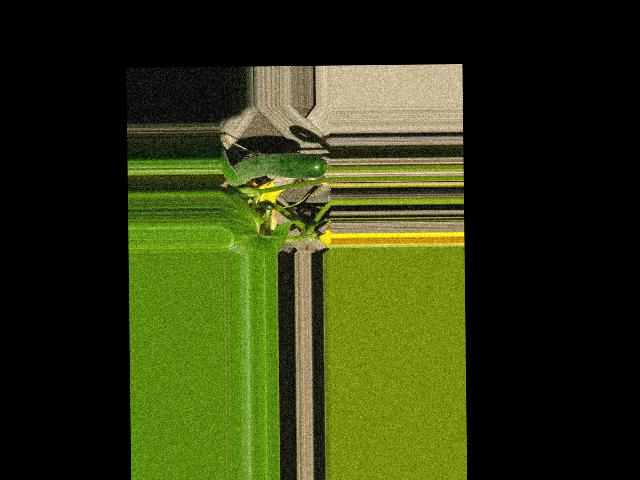cucumber: (219, 152, 325, 185)
